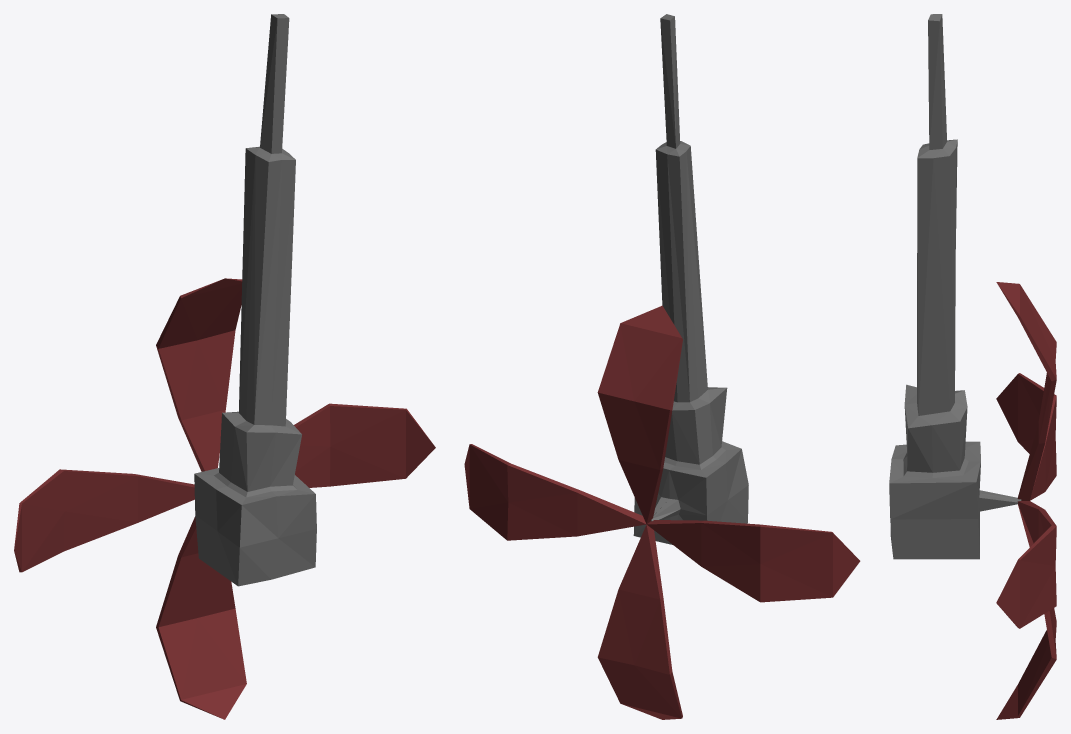
File: Piercer.fbx
3 views of the same model, side by side, from view 1: azimuth 30°, elevation 25°; view 2: azimuth 150°, elevation 25°; view 3: azimuth 270°, elevation 25° (orthographic). The views are drawn at different scales.
Visible parts, largest first — view 1: Plane.002, Cube; view 2: Plane.002, Cube; view 3: Cube, Plane.002.
Part boxes in pixels (bbox=[...]): Plane.002: bbox=[14, 278, 435, 719]; Cube: bbox=[194, 14, 316, 586]; Plane.002: bbox=[464, 305, 860, 719]; Cube: bbox=[633, 14, 748, 544]; Cube: bbox=[889, 14, 1021, 559]; Plane.002: bbox=[996, 282, 1056, 719].
Size of the model in its own units: 1606 by 2622 by 557.
